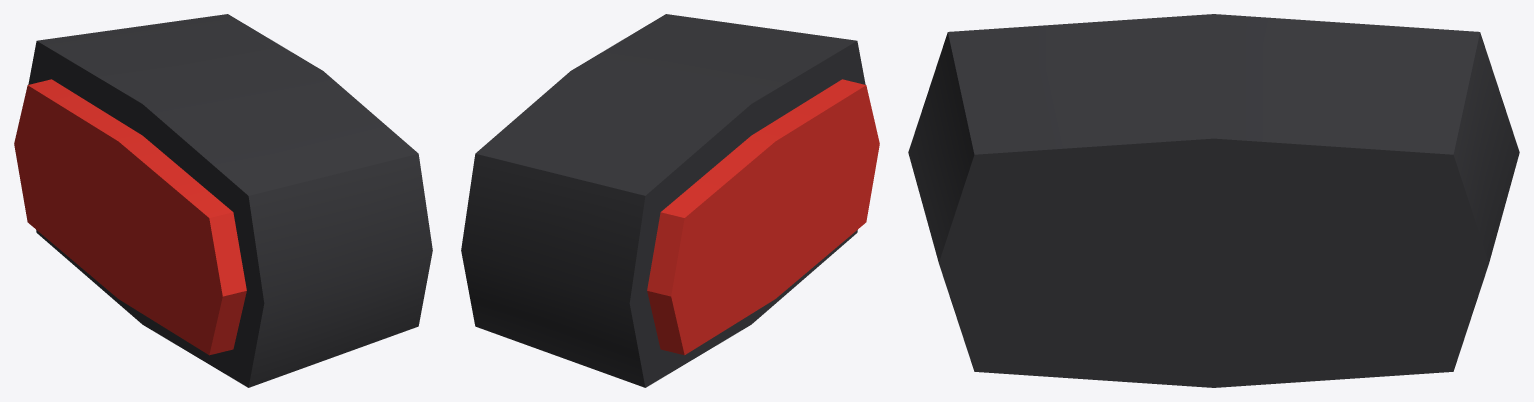
The model's file is led_lod1.glb.
3 views of the same model, side by side, from view 1: azimuth 30°, elevation 25°; view 2: azimuth 150°, elevation 25°; view 3: azimuth 270°, elevation 25° (orthographic). The views are drawn at different scales.
Visible parts, largest first — view 1: led_lod1; view 2: led_lod1; view 3: led_lod1.
Part boxes in pixels (x1,y1,x2,y2): led_lod1: (14,14,432,387); led_lod1: (461,14,879,387); led_lod1: (908,14,1519,387).
Bounding box in the file's own units: 0.034 × 0.035 × 0.07.
